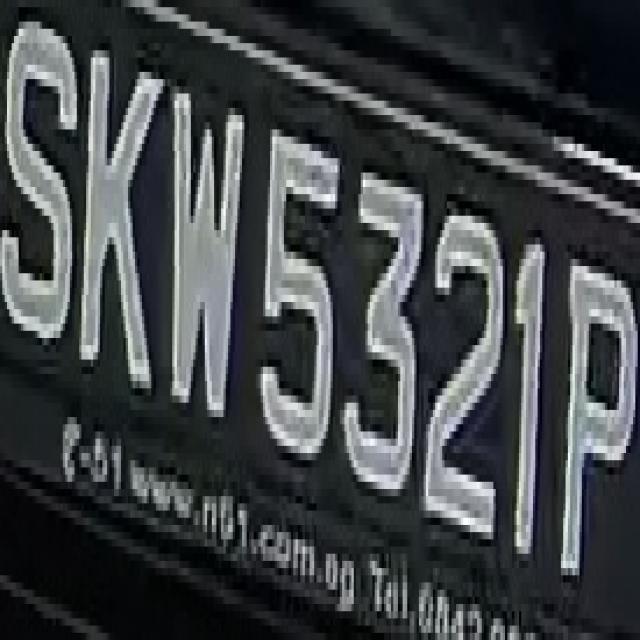1: (509, 201, 552, 604)
2: (421, 194, 503, 597)
3: (342, 136, 426, 546)
5: (258, 79, 340, 489)
K: (74, 36, 163, 431)
P: (554, 230, 635, 611)
S: (10, 15, 74, 352)
W: (163, 72, 247, 446)
